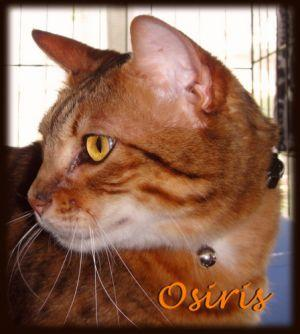bengal: (12, 14, 246, 256)
